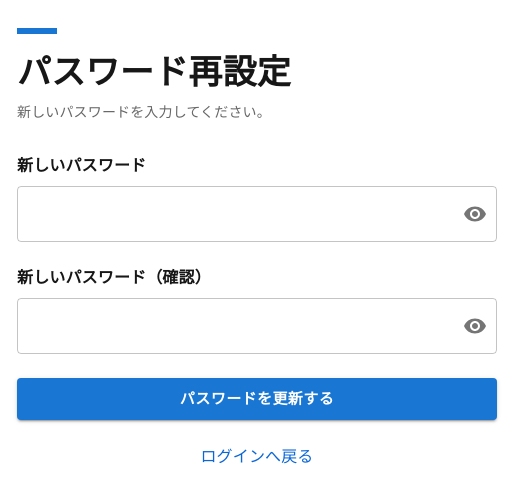
Test: PasswordReset Presenter › トークンが有効なとき › パスワードが8文字未満だとエラーが表示される
This screenshot has width=515, height=493.
Type "short" into the 1st password field named "password" at (232, 214), box x1=17 y1=186 x2=447 y2=242
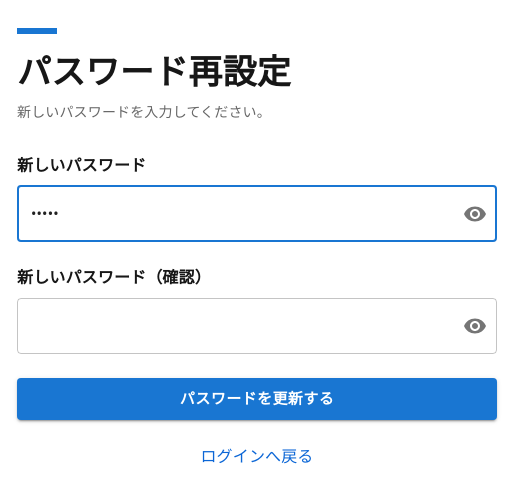
Type "short" into the password field named "password_confirmation" below "新しいパスワード（確認）" at (232, 326), box x1=17 y1=298 x2=447 y2=354
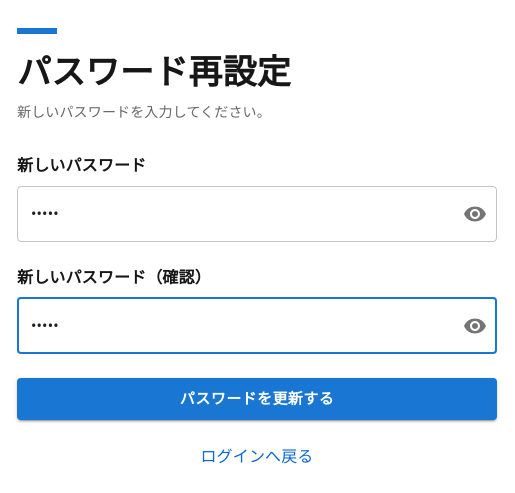
Click the button "パスワードを更新する" at (257, 399), box x1=17 y1=378 x2=497 y2=420
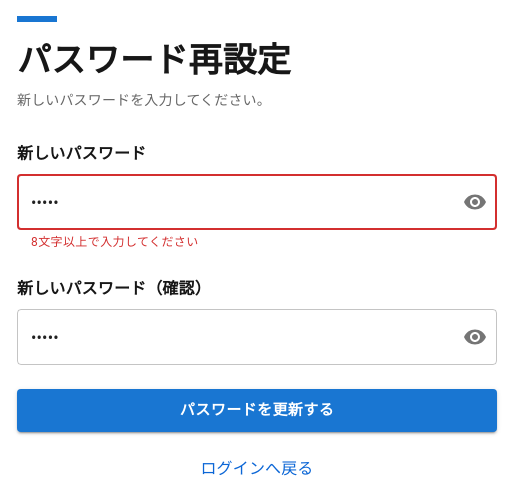
expect the text "8文字以上で入力してください" is shown: met, box x1=31 y1=235 x2=199 y2=249
